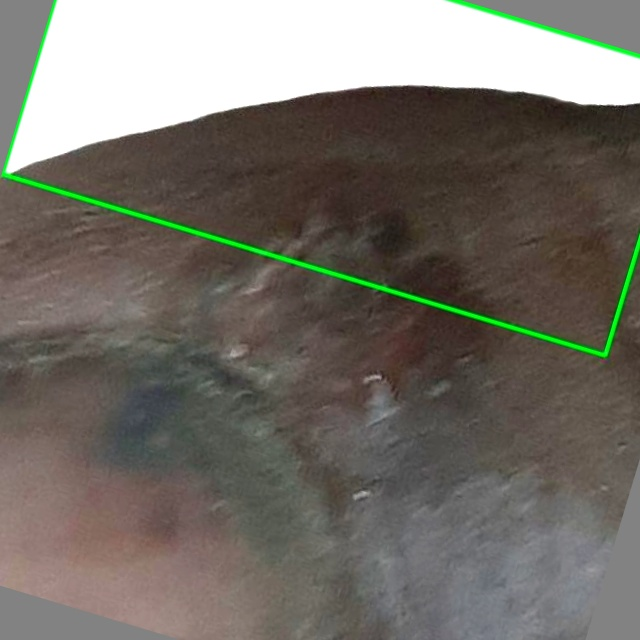Eczema: (2, 0, 639, 354)
